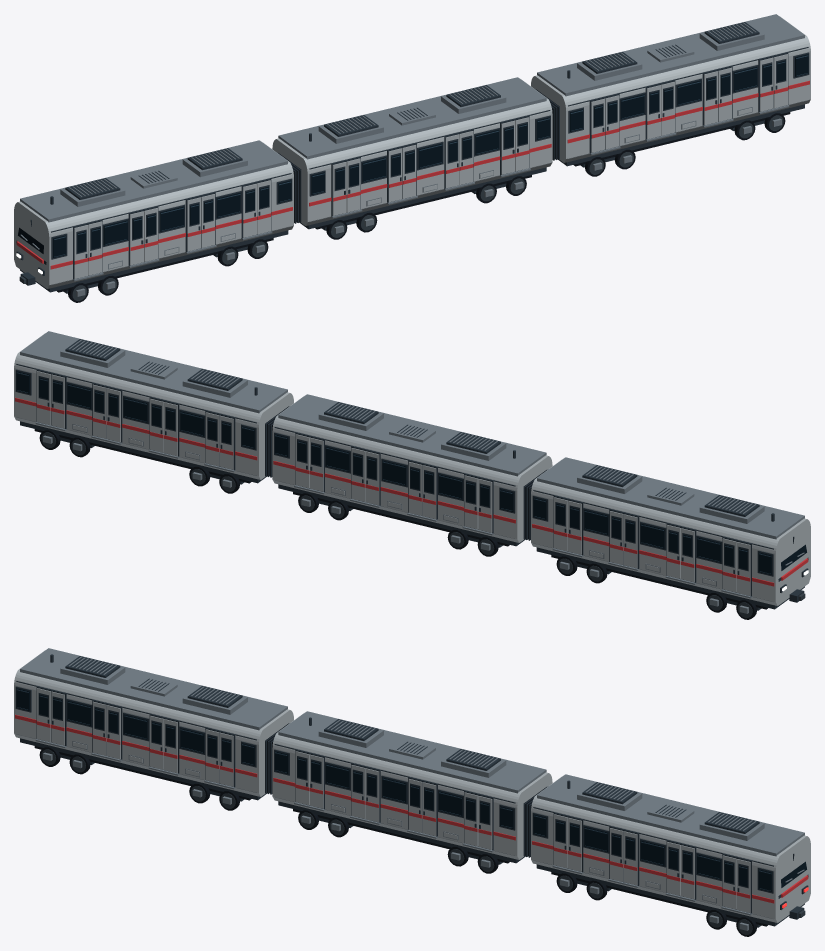
Rendered from railwitness-mrt.glb.
3 views of the same model, one above another, from view 1: azimuth 30°, elevation 25°; view 2: azimuth 150°, elevation 25°; view 3: azimuth 330°, elevation 25° (orthographic).
Parts seen in each view (by area): view 1: Exterior_aluminium, Exterior_roof, Exterior_frame, Exterior_window, Exterior_rubber, Exterior_livery, Exterior_wheel, Exterior_reflection; view 2: Exterior_aluminium, Exterior_roof, Exterior_frame, Exterior_window, Exterior_rubber, Exterior_livery, Exterior_wheel, Exterior_reflection; view 3: Exterior_aluminium, Exterior_roof, Exterior_frame, Exterior_window, Exterior_rubber, Exterior_livery, Exterior_wheel, Exterior_reflection.
Boxes of the visible parts, x1,y1,x2,y2 form: Exterior_aluminium: (14,16,810,288); Exterior_roof: (20,14,808,296); Exterior_frame: (16,22,809,296); Exterior_window: (18,54,808,257); Exterior_rubber: (57,89,790,302); Exterior_livery: (16,80,809,269); Exterior_wheel: (19,115,783,300); Exterior_reflection: (53,55,808,256); Exterior_aluminium: (14,333,810,605); Exterior_roof: (16,331,804,613); Exterior_frame: (15,339,808,613); Exterior_window: (16,371,806,574); Exterior_rubber: (34,406,767,619); Exterior_livery: (15,397,808,586); Exterior_wheel: (41,432,805,617); Exterior_reflection: (16,372,771,573); Exterior_aluminium: (14,650,810,922); Exterior_roof: (16,648,804,930); Exterior_frame: (15,654,808,930); Exterior_window: (16,688,806,891); Exterior_rubber: (34,723,767,936); Exterior_livery: (15,714,808,903); Exterior_wheel: (41,749,805,934); Exterior_reflection: (16,689,771,890).
Size of the model in its own units: 28.72 by 3.42 by 2.46.
